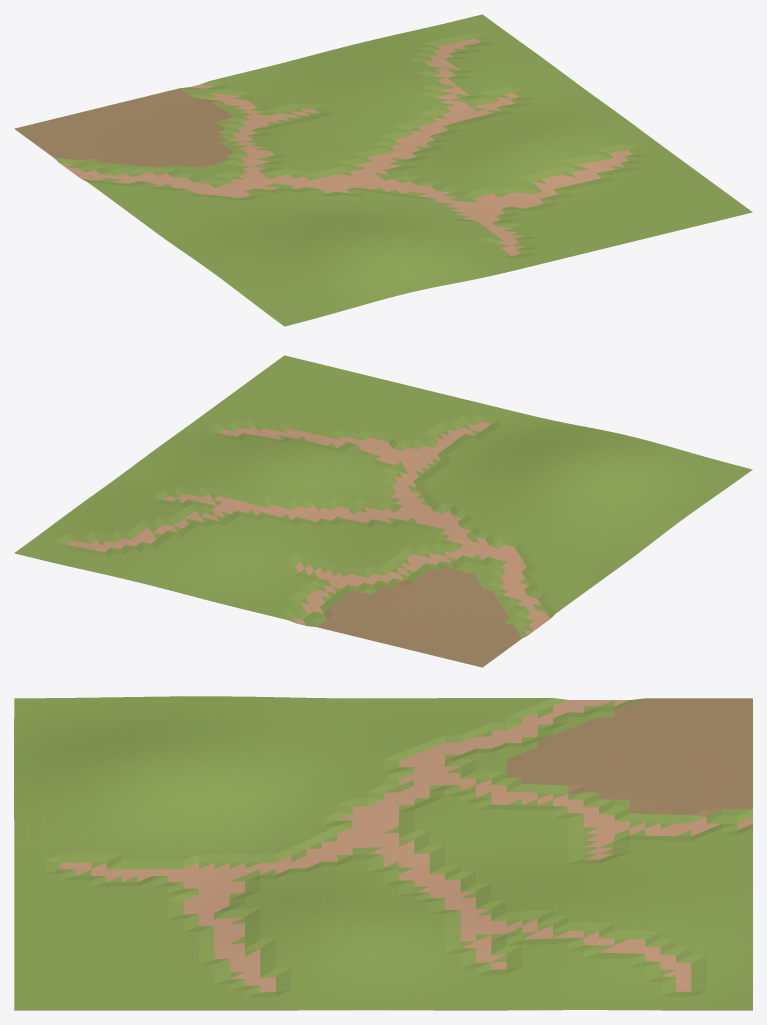
The model's file is chap2terr 4.fbx.
The picture shows the model from 3 angles, top to bottom: view 1: azimuth 30°, elevation 25°; view 2: azimuth 150°, elevation 25°; view 3: azimuth 270°, elevation 25°; orthographic projection. The views are drawn at different scales.
Visible parts, largest first — view 1: chap2terr; view 2: chap2terr; view 3: chap2terr.
Part boxes in pixels (x1,y1,x2,y2): chap2terr: [14, 14, 752, 326]; chap2terr: [14, 355, 752, 667]; chap2terr: [14, 696, 752, 1010].
Size of the model in its own units: 73.39 by 2.25 by 73.41.
